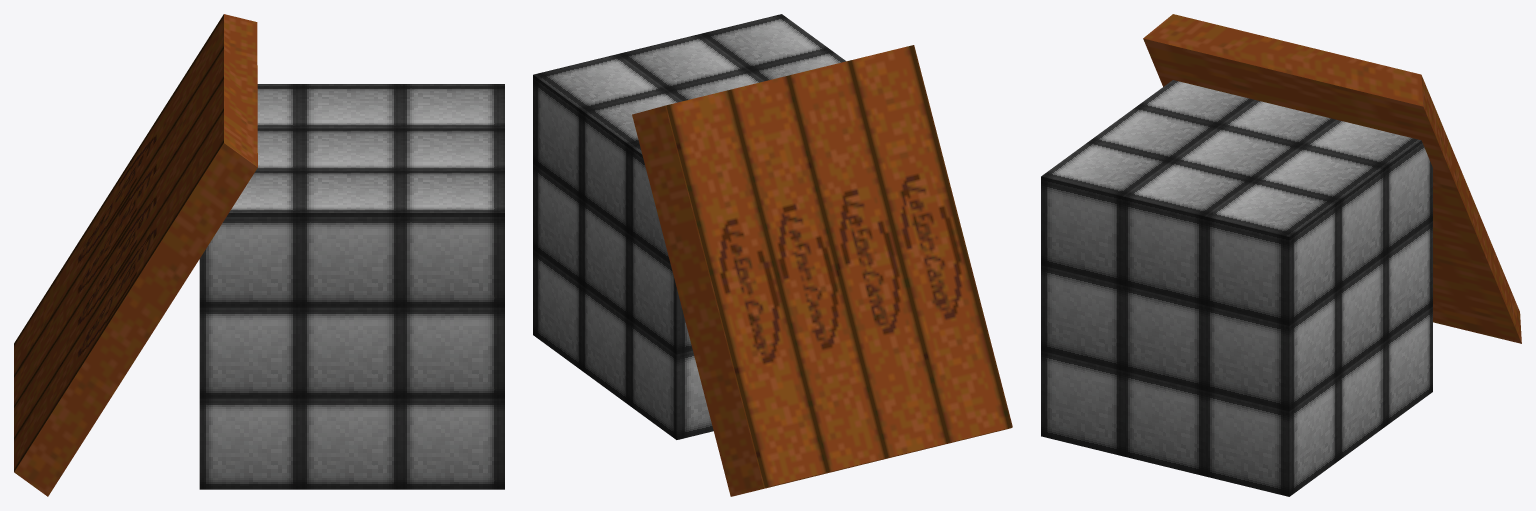
Rendered from cube-and-kitkat.fbx.
3 views of the same model, side by side, from view 1: azimuth 30°, elevation 25°; view 2: azimuth 150°, elevation 25°; view 3: azimuth 270°, elevation 25° (orthographic). The views are drawn at different scales.
Parts seen in each view (by area): view 1: Cube__9_, Cube__10_; view 2: Cube__10_, Cube__9_; view 3: Cube__9_, Cube__10_.
Boxes of the visible parts, x1,y1,x2,y2 form: Cube__9_: (199, 84, 504, 489); Cube__10_: (14, 14, 257, 496); Cube__10_: (632, 45, 1012, 496); Cube__9_: (533, 14, 845, 439); Cube__9_: (1041, 80, 1432, 496); Cube__10_: (1143, 14, 1521, 343).
Bounding box in the file's own units: 757 × 501 × 671.
2 materials, 2 textured.
